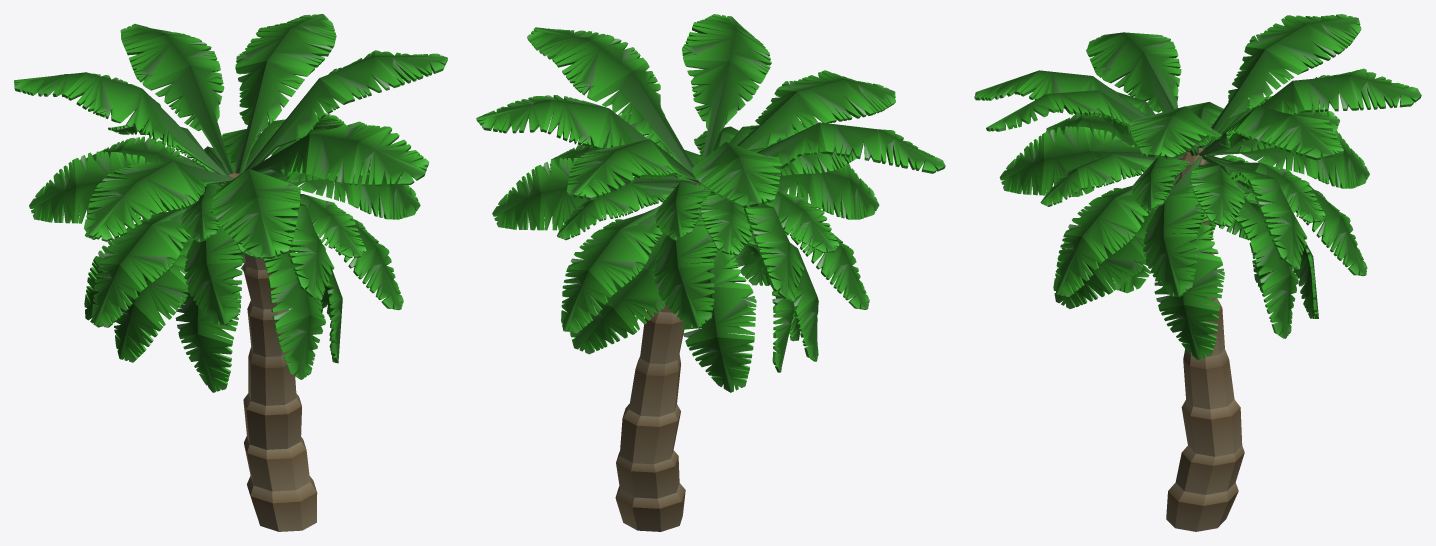
The model's file is palma.fbx.
3 views of the same model, side by side, from view 1: azimuth 30°, elevation 25°; view 2: azimuth 150°, elevation 25°; view 3: azimuth 270°, elevation 25° (orthographic). The views are drawn at different scales.
Visible parts, largest first — view 1: palma1; view 2: palma1; view 3: palma1.
Boxes of the visible parts, x1,y1,x2,y2 form: palma1: (14,14,447,531); palma1: (476,14,945,531); palma1: (974,14,1421,531).
Size of the model in its own units: 6.22 by 6.44 by 6.98.
